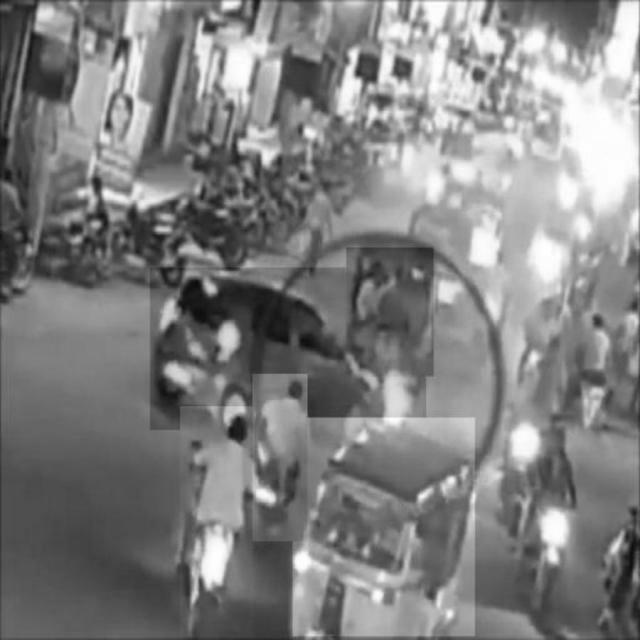accident: (150, 268, 426, 430)
vehicle: (293, 418, 475, 636), (181, 407, 254, 638), (346, 248, 434, 376), (253, 374, 308, 541)
